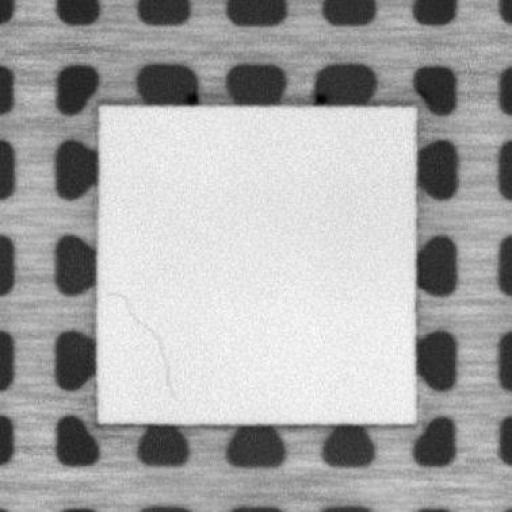DIE_CRACK: (108, 288, 175, 404)
